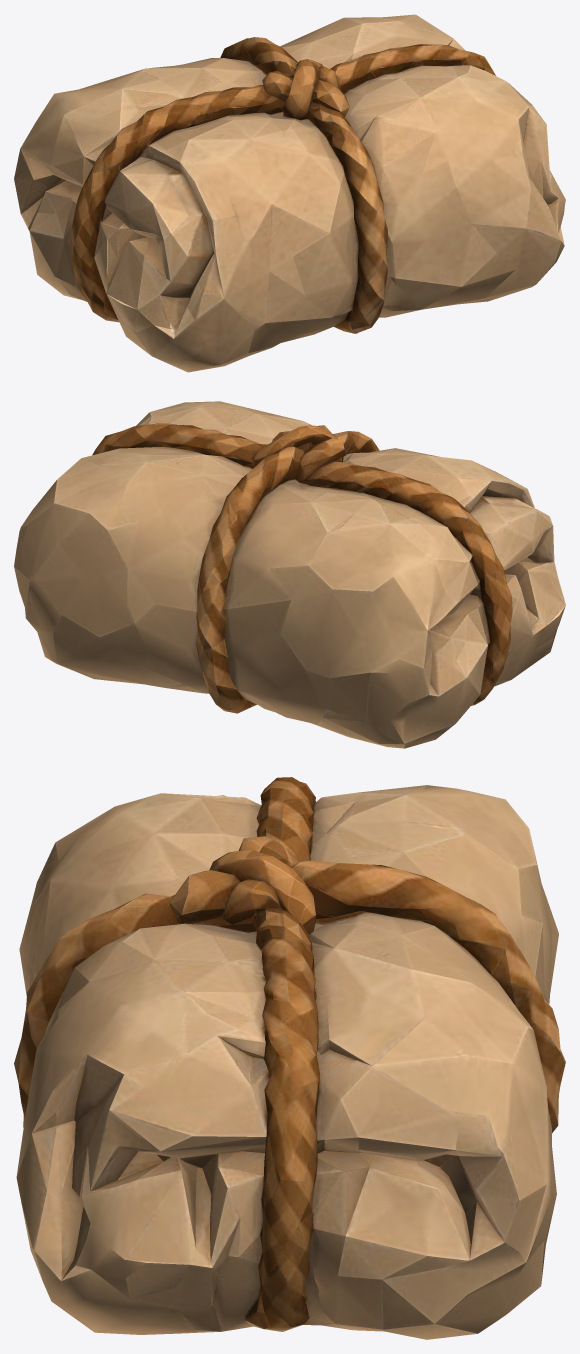
The model's file is pilgrim-bundle.glb.
3 views of the same model, one above another, from view 1: azimuth 30°, elevation 25°; view 2: azimuth 150°, elevation 25°; view 3: azimuth 270°, elevation 25° (orthographic). The views are drawn at different scales.
Bounding box in the file's own units: 1.9 × 0.9739 × 1.34.
1 material, 1 textured.
